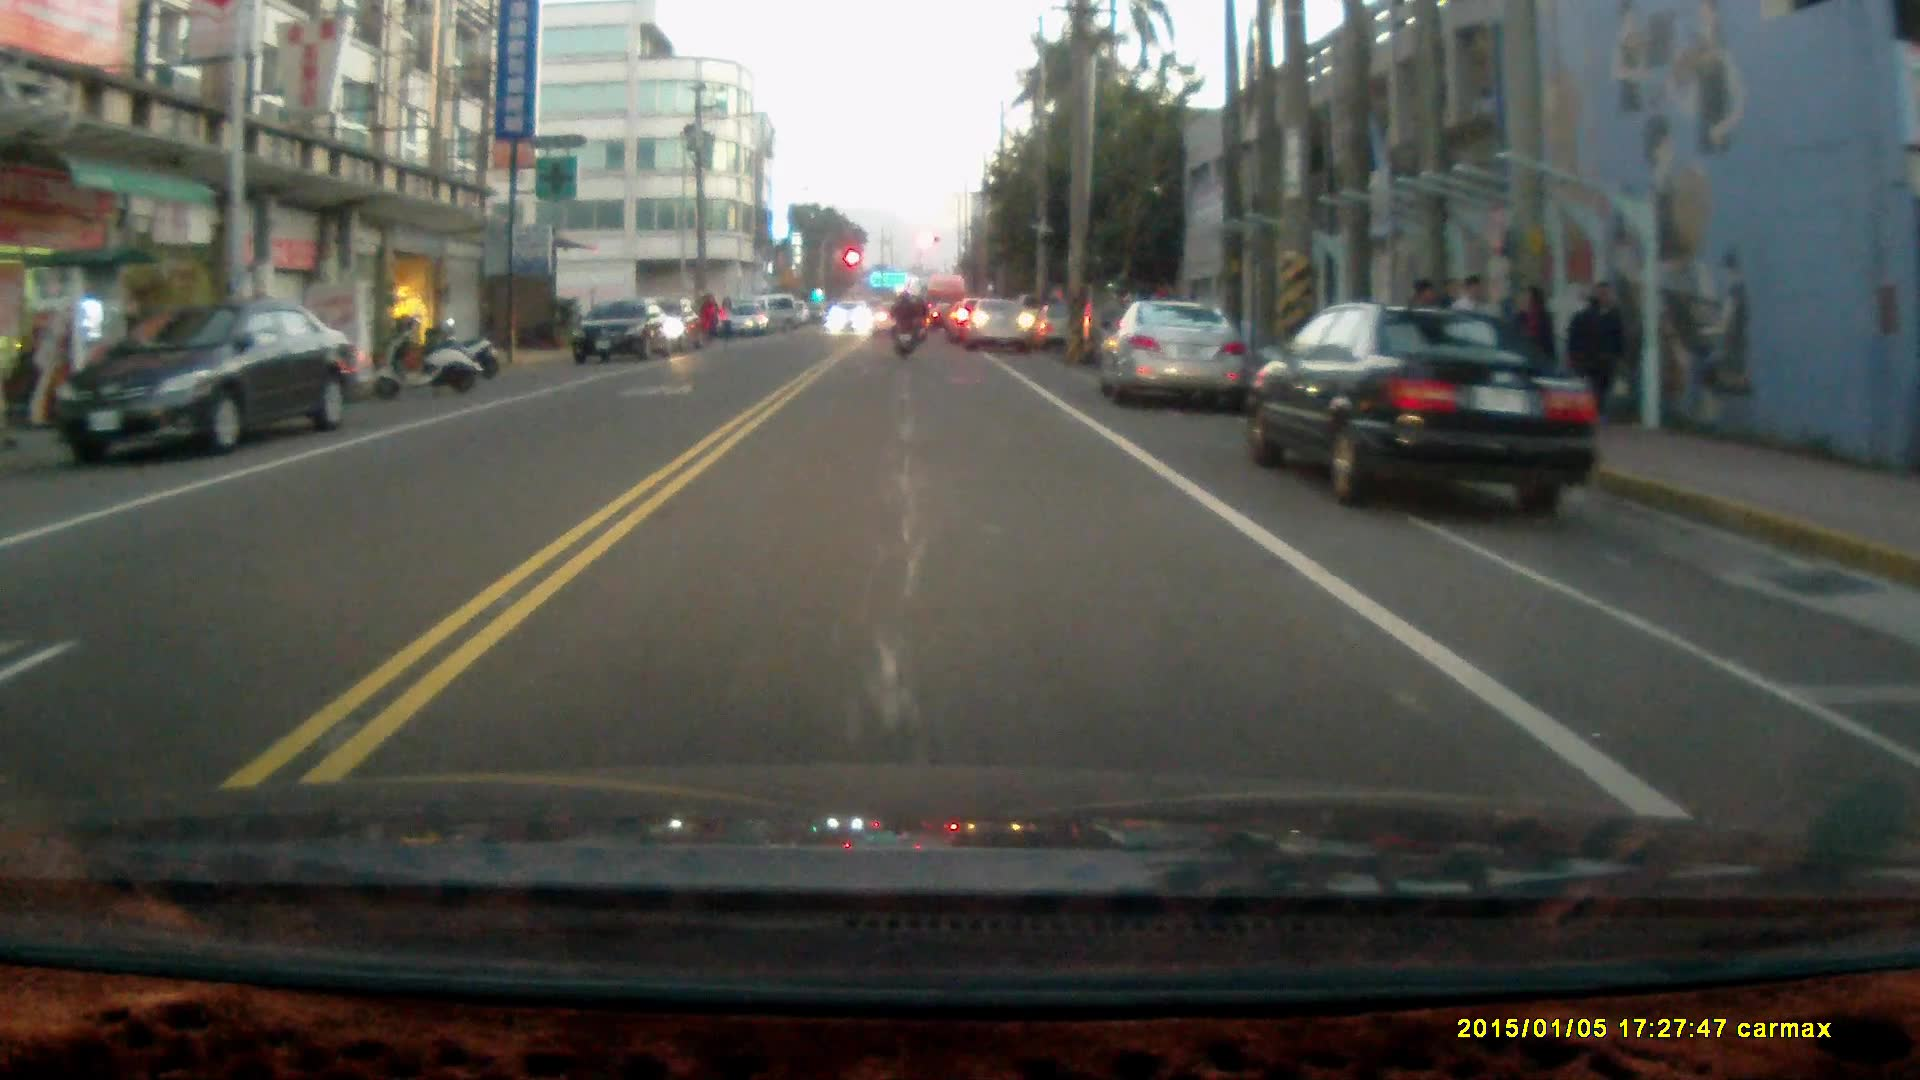pedestrian: (1570, 278, 1630, 420), (1506, 285, 1559, 402)
rider: (888, 286, 920, 361)
vehicle: (1237, 299, 1611, 507), (62, 302, 354, 458), (1102, 300, 1250, 411), (573, 299, 680, 366), (970, 299, 1035, 349)
